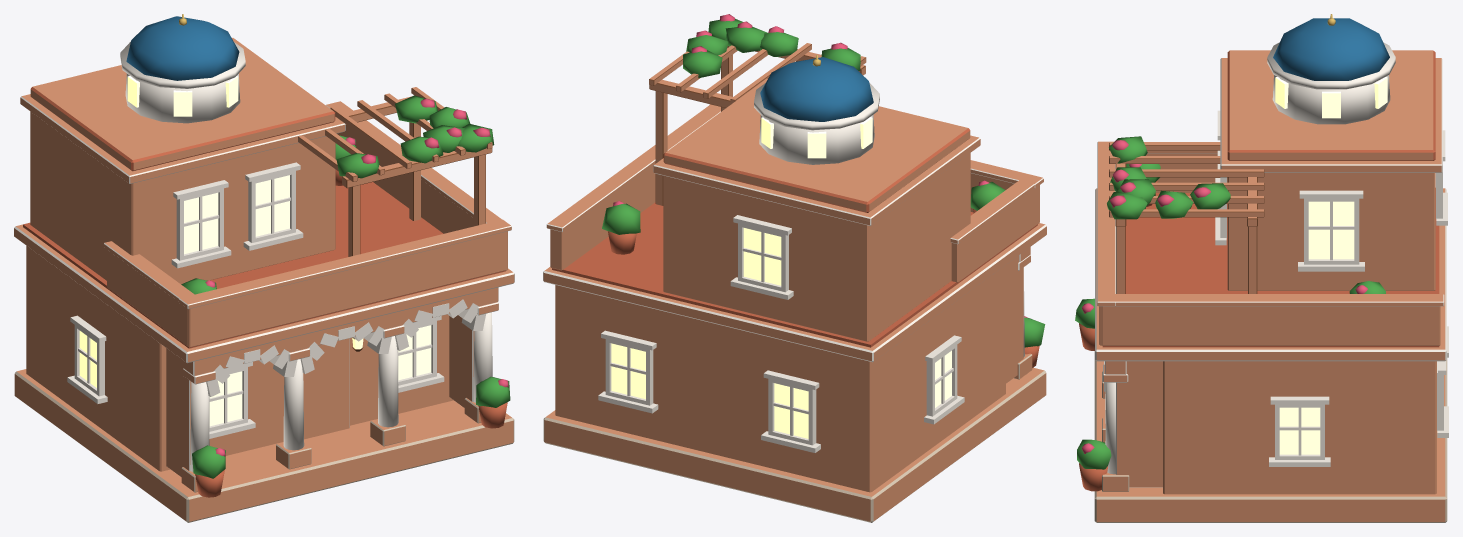
Rendered from house_terracotta_terrace.glb.
The picture shows the model from 3 angles, left to right: view 1: azimuth 30°, elevation 25°; view 2: azimuth 150°, elevation 25°; view 3: azimuth 270°, elevation 25°; orthographic projection.
Visible parts, largest first — view 1: house_terracotta_terrace; view 2: house_terracotta_terrace; view 3: house_terracotta_terrace.
Part boxes in pixels (box(x1,y1,x2,y2)): house_terracotta_terrace: box(14, 14, 514, 522); house_terracotta_terrace: box(543, 14, 1046, 522); house_terracotta_terrace: box(1075, 14, 1448, 522).
Size of the model in its own units: 7.46 by 8.44 by 7.1.
